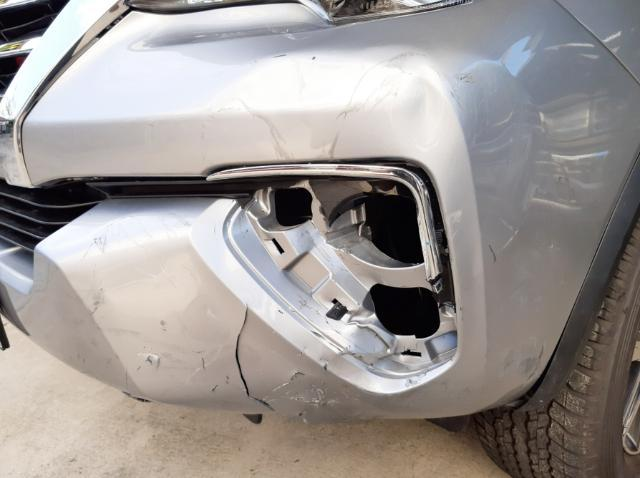Bumper: (185, 140, 500, 401)
